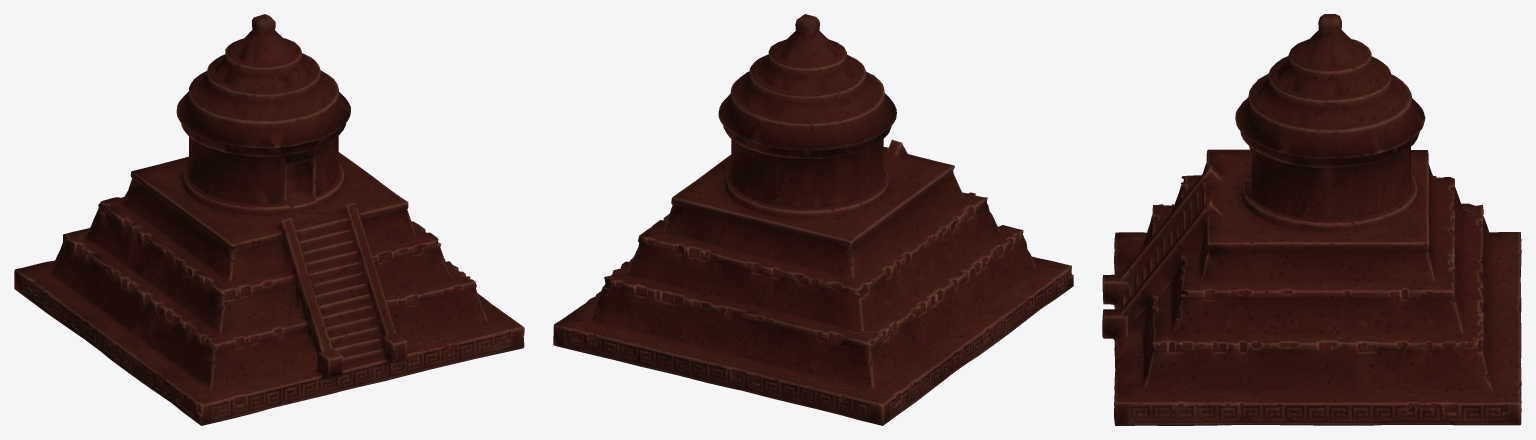
The model's file is round-temple-tezontle.glb.
3 views of the same model, side by side, from view 1: azimuth 30°, elevation 25°; view 2: azimuth 150°, elevation 25°; view 3: azimuth 270°, elevation 25° (orthographic). The views are drawn at different scales.
Parts seen in each view (by area): view 1: round_temple; view 2: round_temple; view 3: round_temple.
Part boxes in pixels (x1=…): round_temple: x1=14, y1=14, x2=524, y2=425; round_temple: x1=553, y1=14, x2=1073, y2=425; round_temple: x1=1102, y1=14, x2=1521, y2=425.
Bounding box in the file's own units: 1.01 × 0.8813 × 1.03.
1 material, 1 textured.
